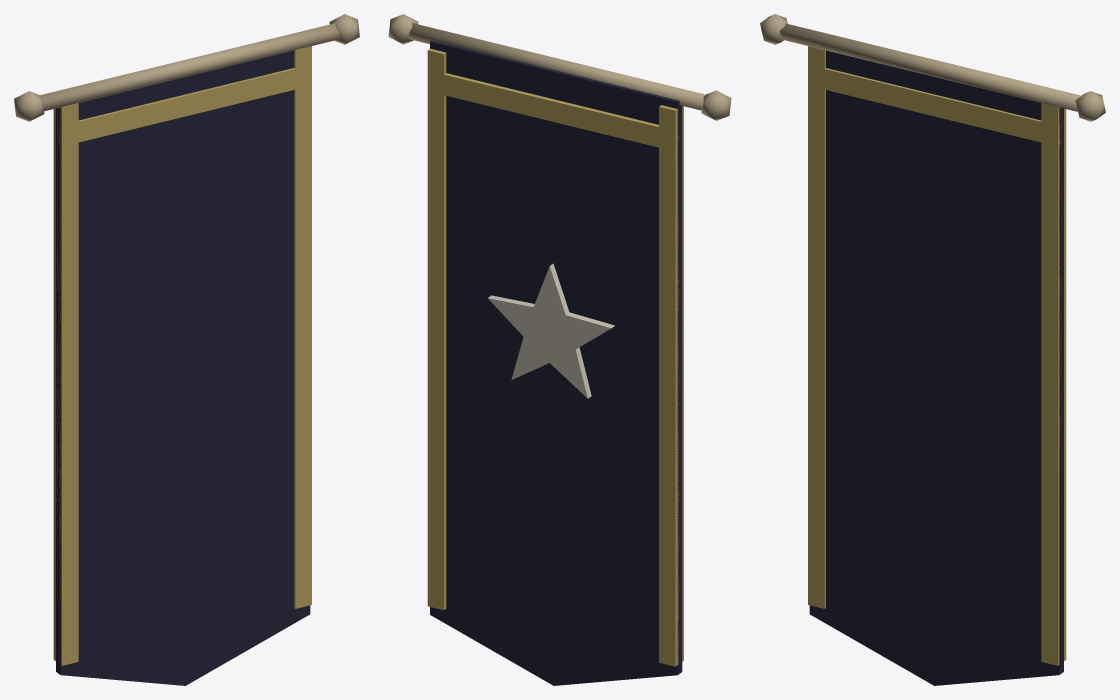
File: martian_walker_banner_v0.glb
3 renders of one model, left to right at view 1: azimuth 30°, elevation 25°; view 2: azimuth 150°, elevation 25°; view 3: azimuth 330°, elevation 25°, orthographic.
Parts seen in each view (by area): view 1: martian_walker_banner_v0; view 2: martian_walker_banner_v0; view 3: martian_walker_banner_v0.
Boxes of the visible parts, left/top/right/bottom form: martian_walker_banner_v0: left=14, top=14, right=359, bottom=685; martian_walker_banner_v0: left=388, top=14, right=731, bottom=685; martian_walker_banner_v0: left=760, top=14, right=1105, bottom=685.
Bounding box in the file's own units: 1.04 × 1.84 × 0.0933.
